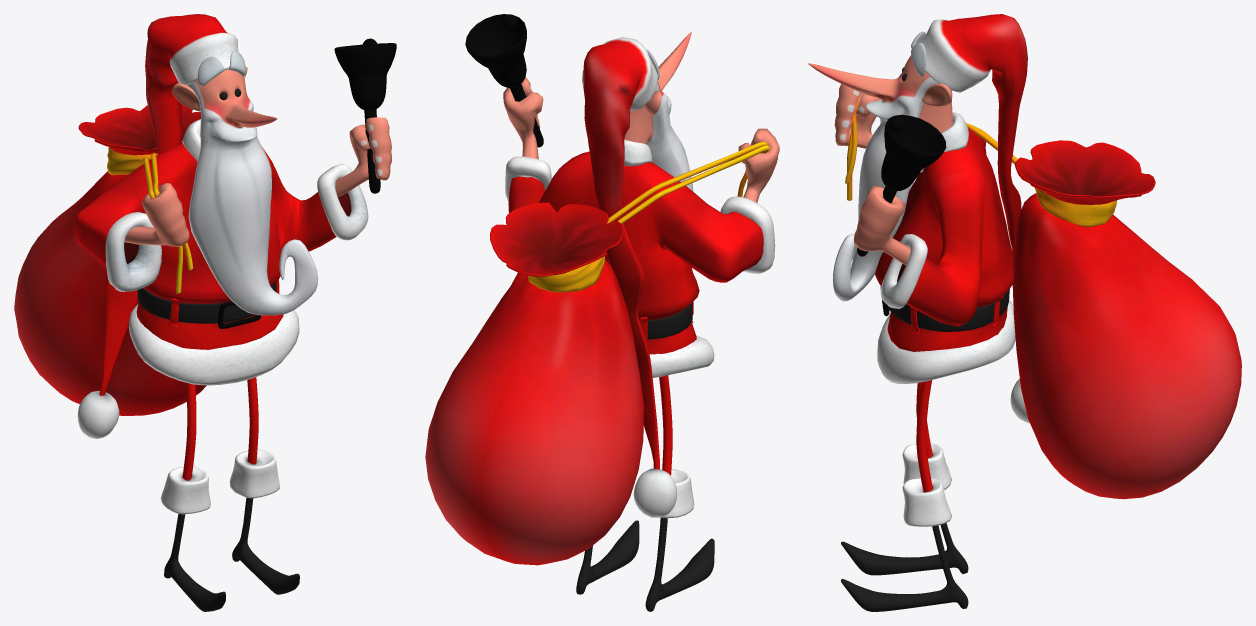
The model's file is santa claus.fbx.
The picture shows the model from 3 angles, left to right: view 1: azimuth 30°, elevation 25°; view 2: azimuth 150°, elevation 25°; view 3: azimuth 270°, elevation 25°; orthographic projection. The views are drawn at different scales.
Parts seen in each view (by area): view 1: node_id5; view 2: node_id5; view 3: node_id5.
Part boxes in pixels (bbox=[...]): node_id5: bbox=[14, 14, 396, 611]; node_id5: bbox=[425, 14, 779, 611]; node_id5: bbox=[808, 14, 1241, 611].
Bounding box in the file's own units: 0.285 × 0.512 × 0.3527.
Materials: 1 (1 with a texture image).
